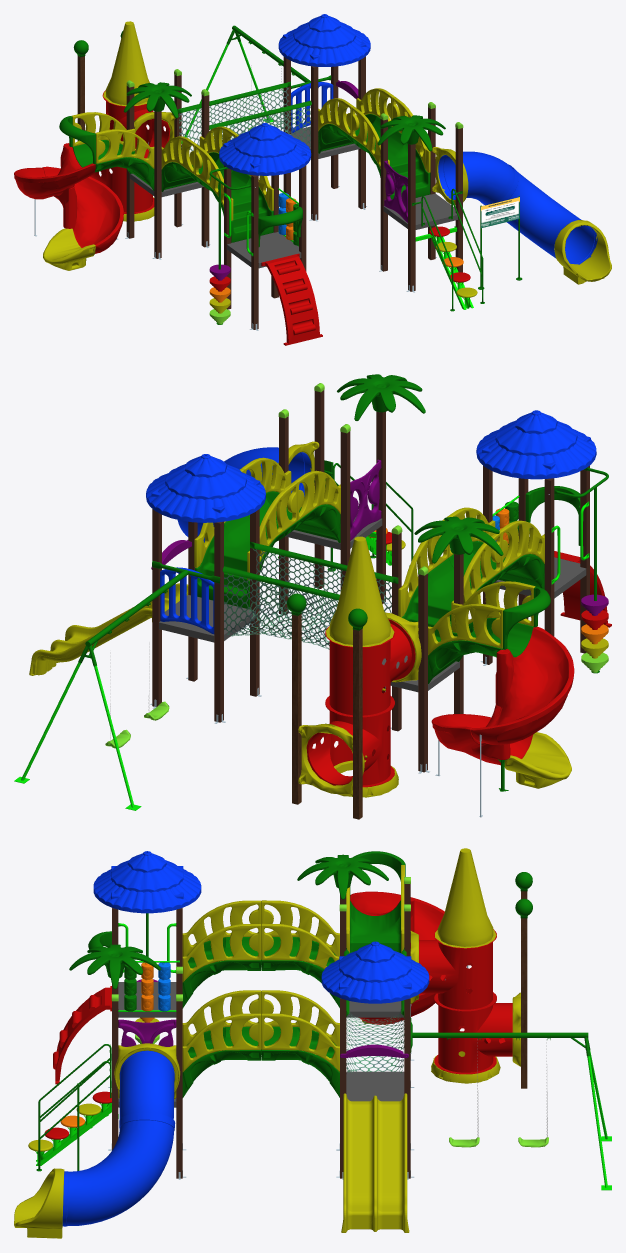
The picture shows the model from 3 angles, top to bottom: view 1: azimuth 30°, elevation 25°; view 2: azimuth 150°, elevation 25°; view 3: azimuth 270°, elevation 25°; orthographic projection. The views are drawn at different scales.
Parts seen in each view (by area): view 1: object 9, object 27, object 24, TOLDO M2.001, TOLDO M2, object 30, ACESSO M1.002, ACESSO M1.001, PLATAFORMA M1.002, LATERAL M1.009, COQUEIRO M1.001, COQUEIRO M1 (+30 smaller); view 2: object 9, object 24, object 27, object 30, TOLDO M2.001, TOLDO M2, ACESSO M1, LATERAL M1.008, COQUEIRO M1.001, COQUEIRO M1, ACESSO M1.003, COLUNA MAD PLAST 9 X 9CM.014 (+29 smaller); view 3: object 9, object 27, object 24, TOLDO M2, TOLDO M2.001, object 30, LATERAL M1.001, LATERAL M1.005, LATERAL M1, LATERAL M1.007, PLATAFORMA M1.004, COQUEIRO M1 (+16 smaller).
Boxes of the visible parts, <box> form: object 9: <box>14,31,322,345</box>; object 27: <box>177,41,597,311</box>; object 24: <box>34,21,611,284</box>; TOLDO M2.001: <box>219,123,311,175</box>; TOLDO M2: <box>278,14,370,66</box>; object 30: <box>179,25,331,153</box>; ACESSO M1.002: <box>195,170,273,242</box>; ACESSO M1.001: <box>352,131,430,199</box>; PLATAFORMA M1.002: <box>227,232,301,268</box>; LATERAL M1.009: <box>95,129,154,168</box>; COQUEIRO M1.001: <box>123,82,191,118</box>; COQUEIRO M1: <box>377,115,445,151</box>; object 9: <box>287,467,611,787</box>; object 24: <box>29,536,571,817</box>; object 27: <box>14,441,413,810</box>; object 30: <box>78,548,391,666</box>; TOLDO M2.001: <box>476,410,596,479</box>; TOLDO M2: <box>146,454,265,522</box>; ACESSO M1: <box>195,516,297,609</box>; LATERAL M1.008: <box>428,603,504,655</box>; COQUEIRO M1.001: <box>414,516,503,563</box>; COQUEIRO M1: <box>337,374,425,420</box>; ACESSO M1.003: <box>402,558,500,641</box>; COLUNA MAD PLAST 9 X 9CM.014: <box>214,521,223,722</box>; object 9: <box>53,851,532,1084</box>; object 27: <box>28,948,611,1226</box>; object 24: <box>14,848,520,1238</box>; TOLDO M2: <box>321,941,429,1003</box>; TOLDO M2.001: <box>93,851,201,913</box>; object 30: <box>346,1009,590,1072</box>; LATERAL M1.001: <box>182,1013,261,1071</box>; LATERAL M1.005: <box>182,924,261,982</box>; LATERAL M1: <box>261,1013,339,1071</box>; LATERAL M1.007: <box>261,923,339,969</box>; PLATAFORMA M1.004: <box>346,1071,404,1101</box>; COQUEIRO M1: <box>69,944,160,989</box>.
Bounding box in the file's own units: 8.26 × 3.51 × 8.45.
Materials: 49 (6 with a texture image).
